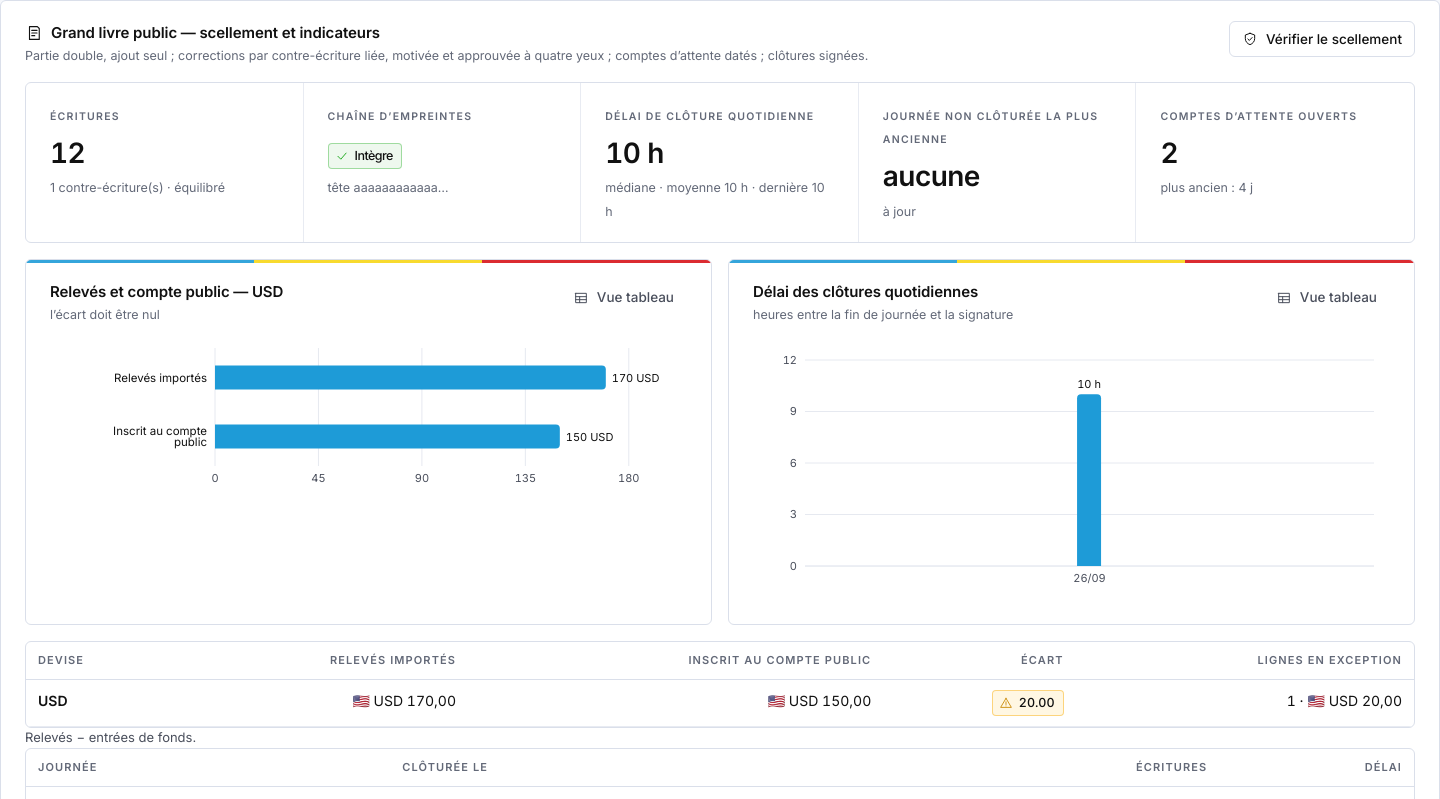
Test: Module 59 — grand livre : scellement, écart aux relevés, délai de clôture › affiche les indicateurs et vérifie le scellement à la demande (rupture signalée)
Check: the text "Intègre" is shown, box [355, 146, 393, 166]
Check: the text "10 h" is shown, box [605, 136, 664, 170]
Click the button "Vérifier le scellement".
click(1322, 39)  # box [1229, 21, 1415, 57]
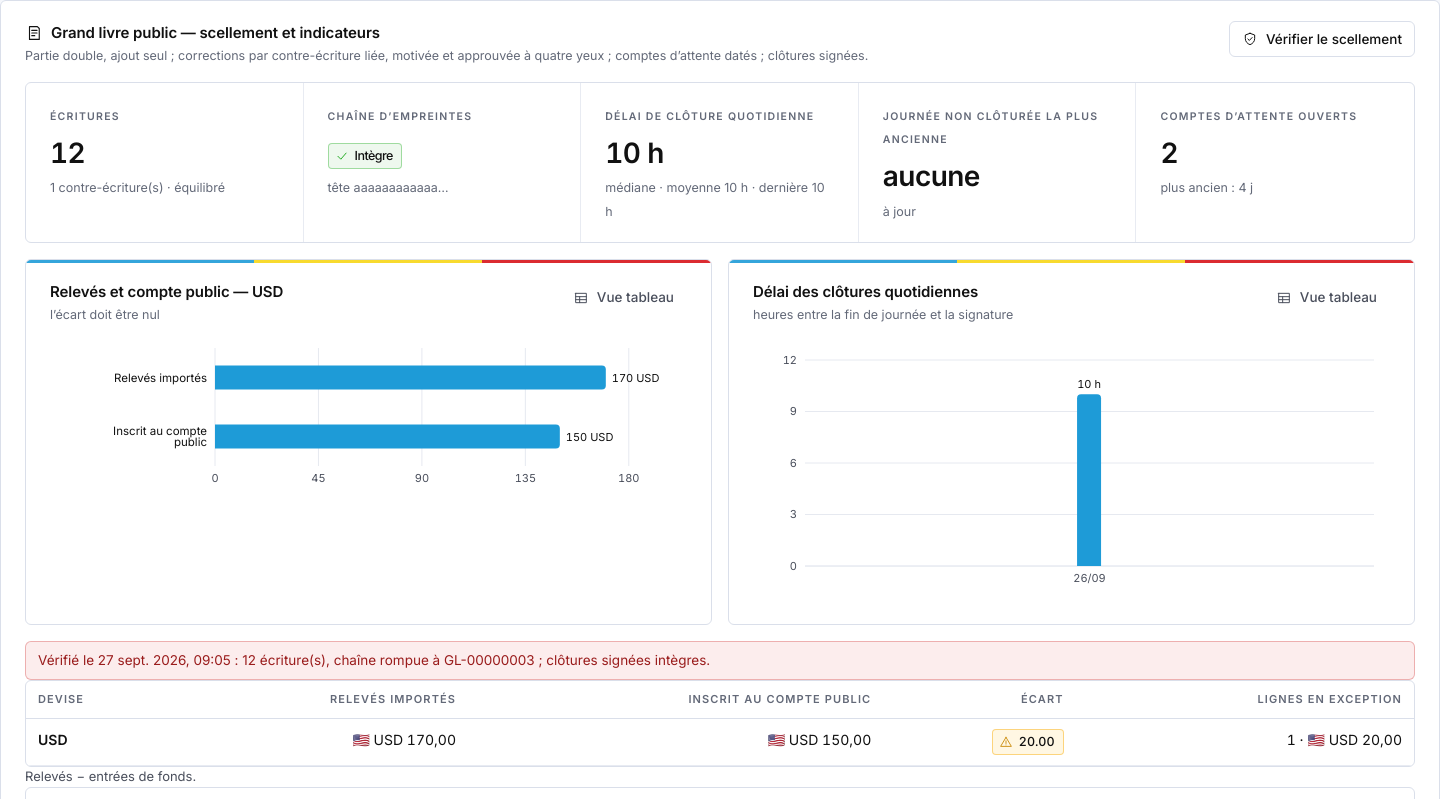
Check: the text "rompue à GL-00000003" is shown, box [380, 652, 535, 668]
